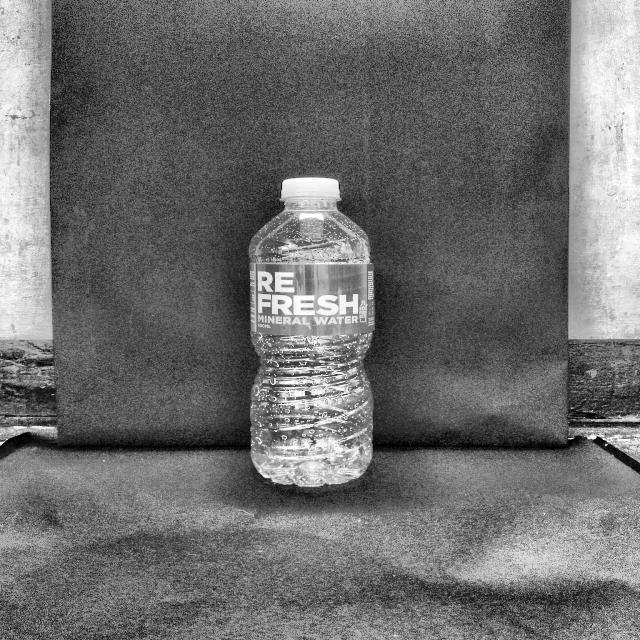Plastic-Bottle: (244, 175, 380, 490)
